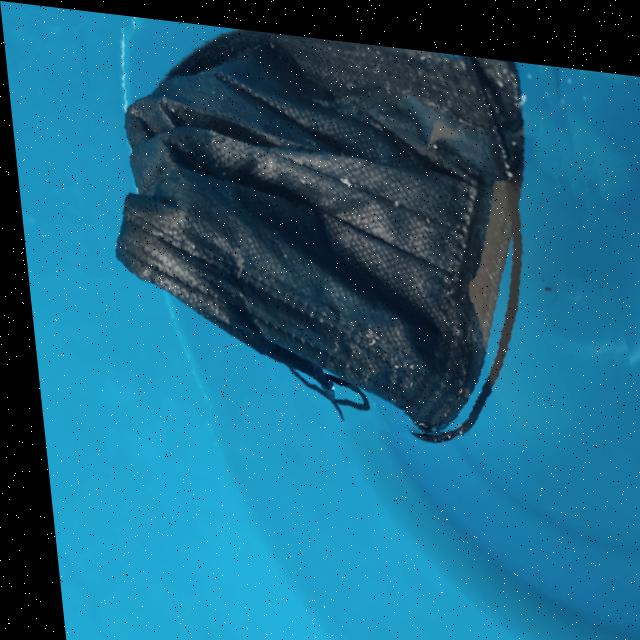litter: (82, 8, 632, 455)
